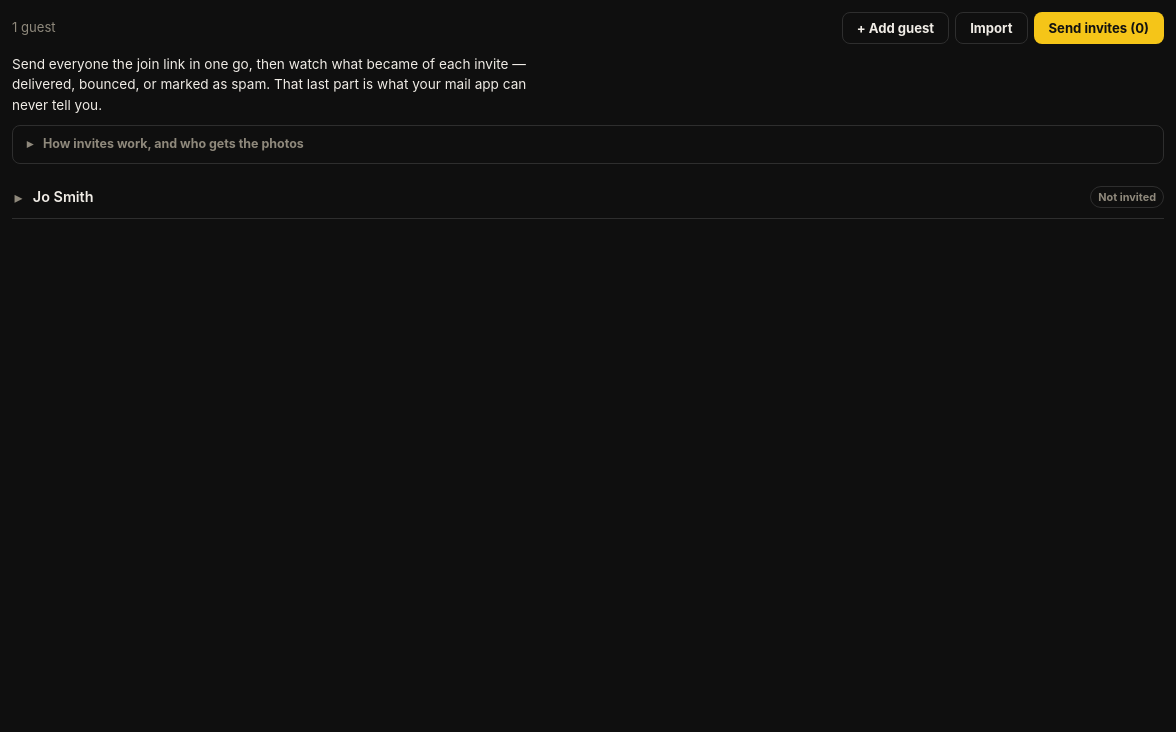
it: the import preview › shows no header row when there was no header — line 1 IS a guest there
The image size is (1176, 732).
Click the button "Import" at [991, 28], box left=955, top=12, right=1028, bottom=44
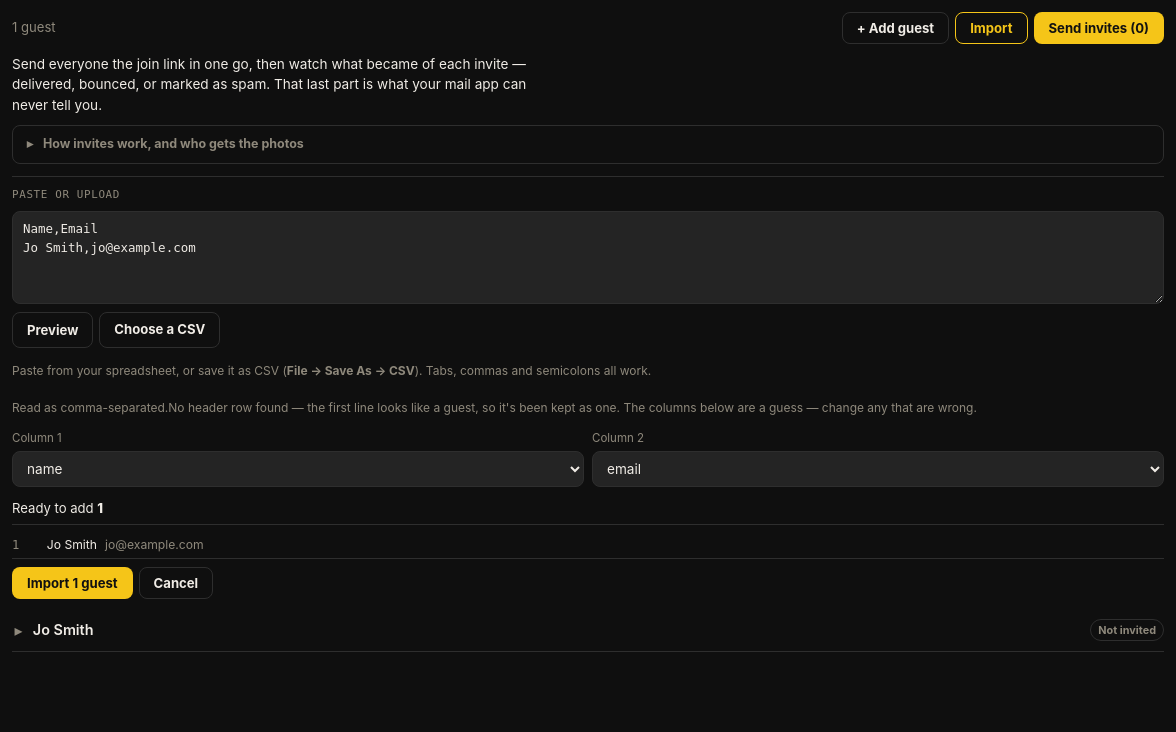
Check: the text "1" in the row of "jo@example.com" is shown, box left=12, top=538, right=19, bottom=552
Check: the text "No header row found" is shown, box left=168, top=400, right=620, bottom=415
